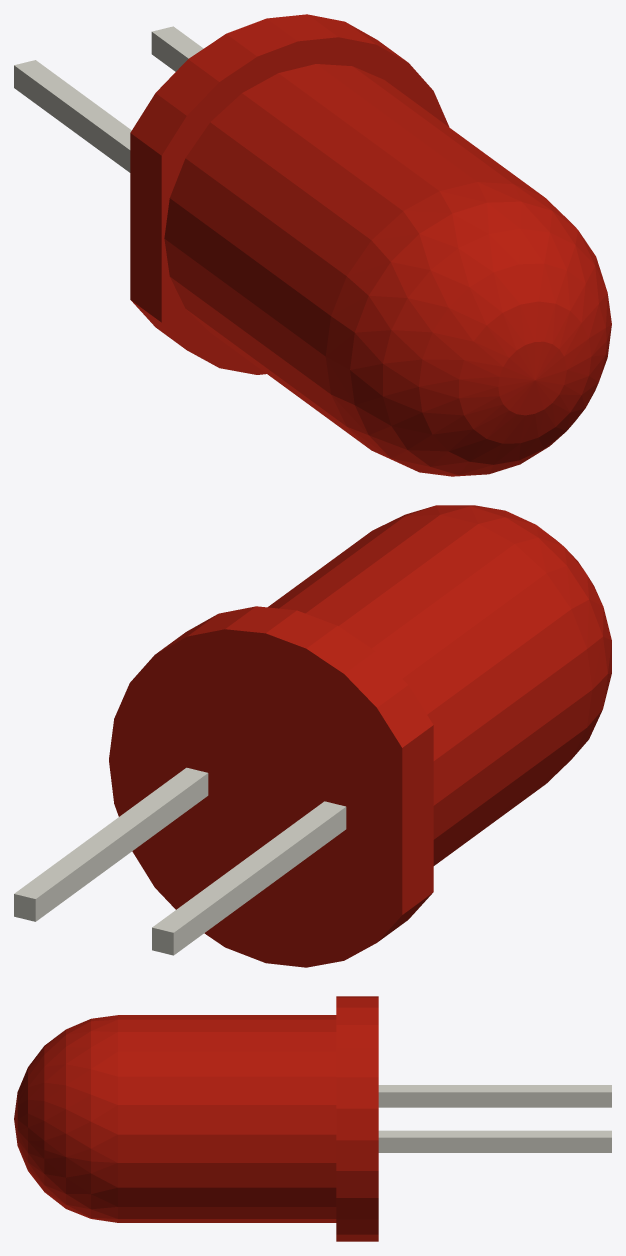
The model's file is led.glb.
3 views of the same model, one above another, from view 1: azimuth 30°, elevation 25°; view 2: azimuth 150°, elevation 25°; view 3: azimuth 270°, elevation 25° (orthographic). The views are drawn at different scales.
Parts seen in each view (by area): view 1: part0, part1; view 2: part0, part1; view 3: part0, part1.
Boxes of the visible parts, <box> form: part0: <box>130,14,611,476</box>; part1: <box>14,26,203,172</box>; part0: <box>109,505,611,967</box>; part1: <box>14,767,346,955</box>; part0: <box>14,996,378,1241</box>; part1: <box>378,1085,611,1152</box>.
Bounding box in the file's own units: 0.0054 × 0.0058 × 0.0141.
